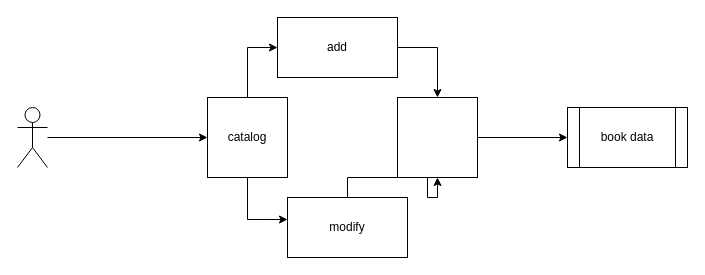
The diagram is 705 pixels wide and 275 high, and some of its shapes have lost their labels. Here are the shapes that lost their labels. From the top down, the box of each, then its label:
(16, 106, 48, 168): Actor
(396, 96, 478, 178): cart
